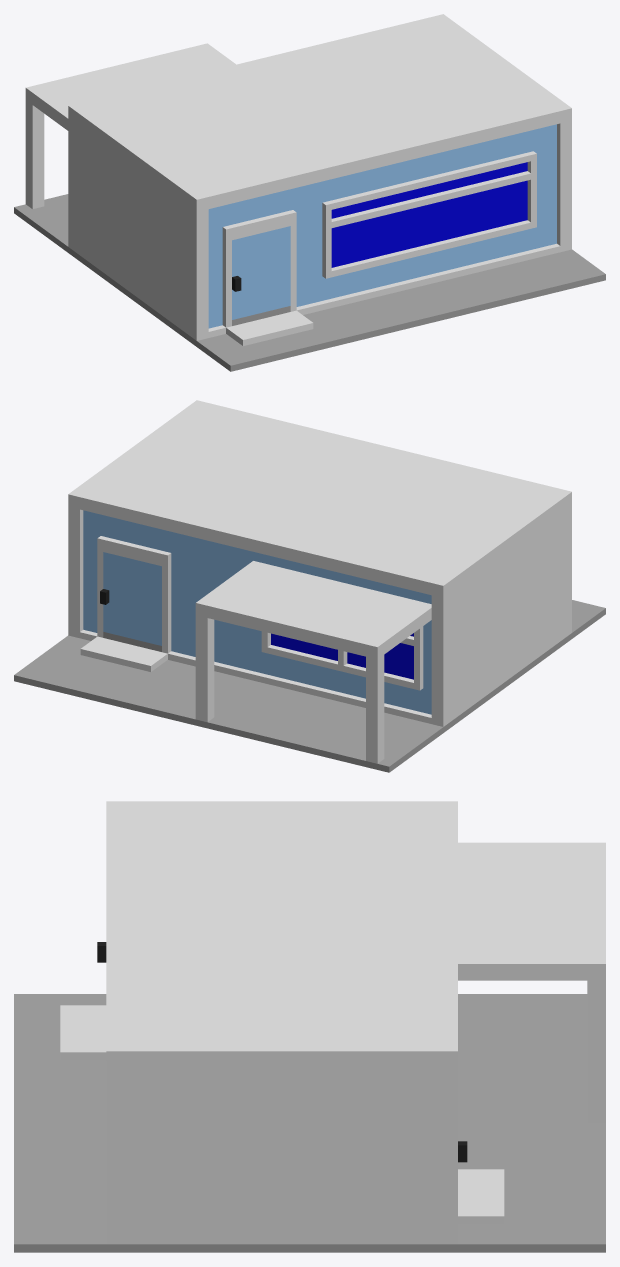
File: obj_house2.obj
The picture shows the model from 3 angles, top to bottom: view 1: azimuth 30°, elevation 25°; view 2: azimuth 150°, elevation 25°; view 3: azimuth 270°, elevation 25°; orthographic projection. The views are drawn at different scales.
Bounding box in the file's own units: 6.4 × 2.4 × 6.4.
Materials: 1 (1 with a texture image).
